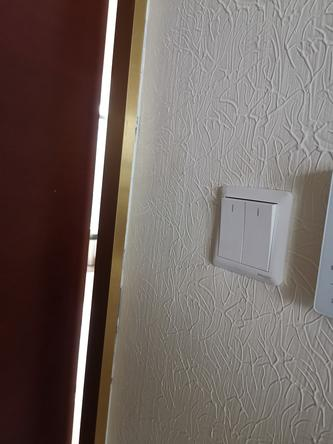switch: (242, 194, 280, 276), (219, 191, 245, 267)
